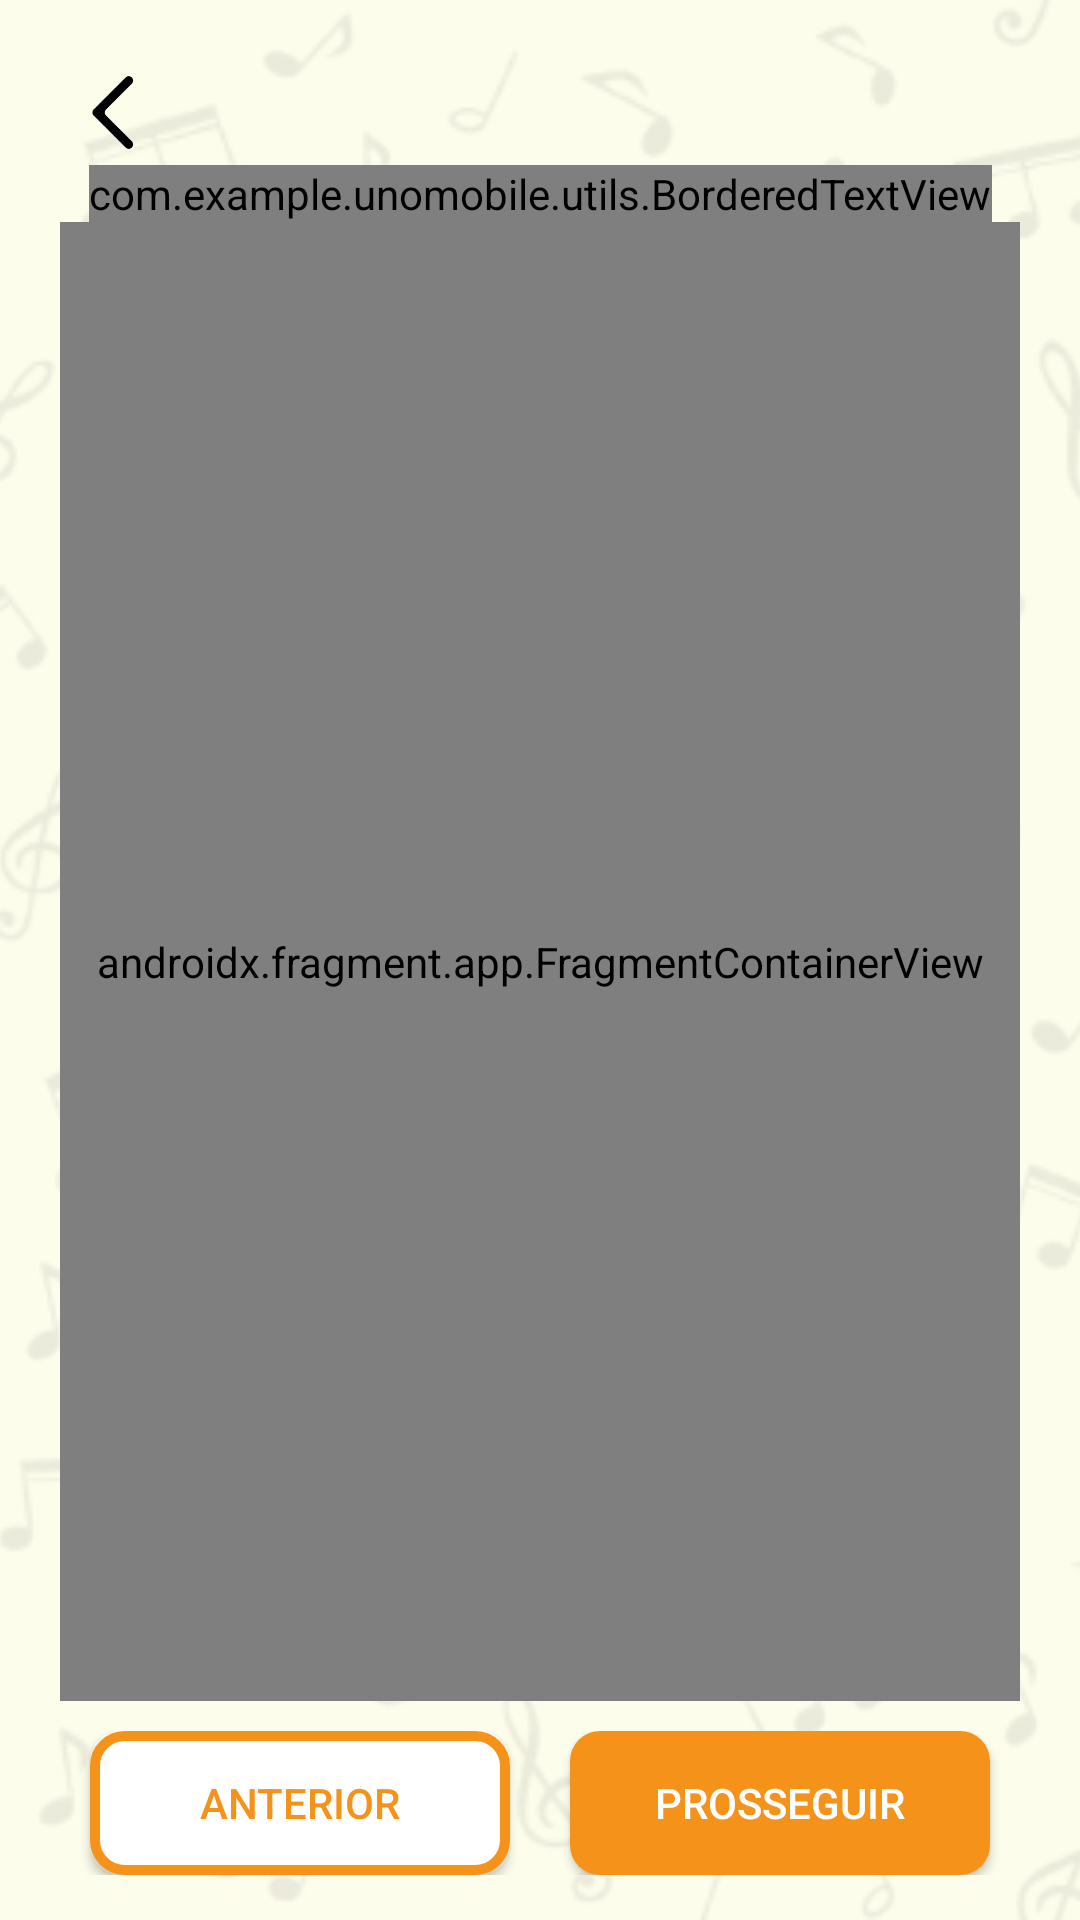

Icons on this 1080x1920 Android screen, each with the point to tap as point (x, y):
Back button: point (112, 112)
